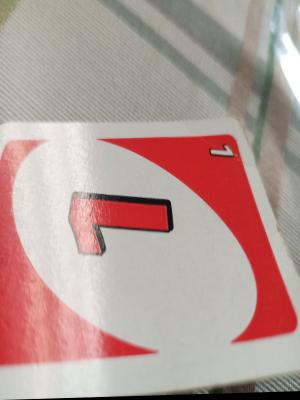num_1: (206, 137, 238, 170)
red: (0, 118, 300, 398)
